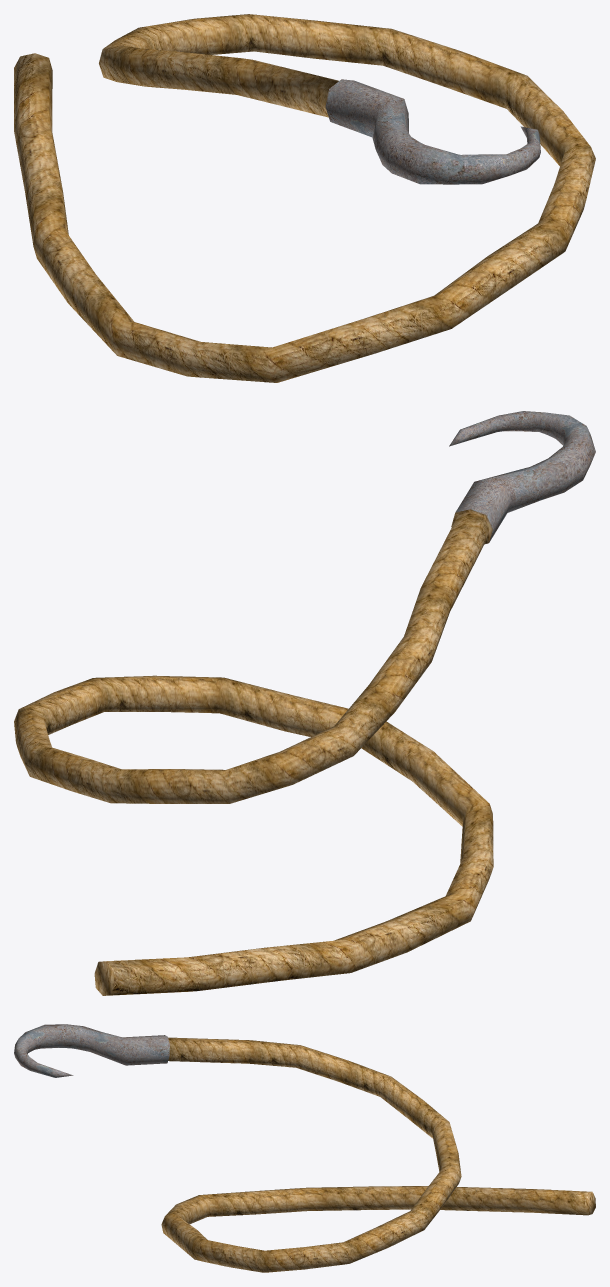
Rendered from Rope.glb.
The picture shows the model from 3 angles, top to bottom: view 1: azimuth 30°, elevation 25°; view 2: azimuth 150°, elevation 25°; view 3: azimuth 270°, elevation 25°; orthographic projection. The views are drawn at different scales.
Visible parts, largest first — view 1: rope.jpg__, metal.jpg__; view 2: rope.jpg__, metal.jpg__; view 3: rope.jpg__, metal.jpg__.
Part boxes in pixels (<box>): rope.jpg__: <box>14,14,595,382</box>; metal.jpg__: <box>325,79,540,184</box>; rope.jpg__: <box>14,509,493,995</box>; metal.jpg__: <box>449,411,595,542</box>; rope.jpg__: <box>161,1037,595,1272</box>; metal.jpg__: <box>14,1024,169,1077</box>.
Bounding box in the file's own units: 3.08 × 2.23 × 5.65.
2 materials, 2 textured.
